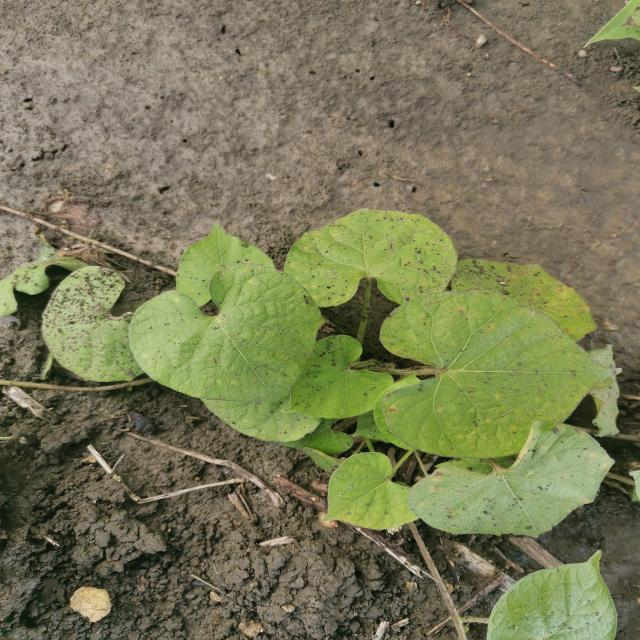MorningGlory: (3, 207, 637, 639)
